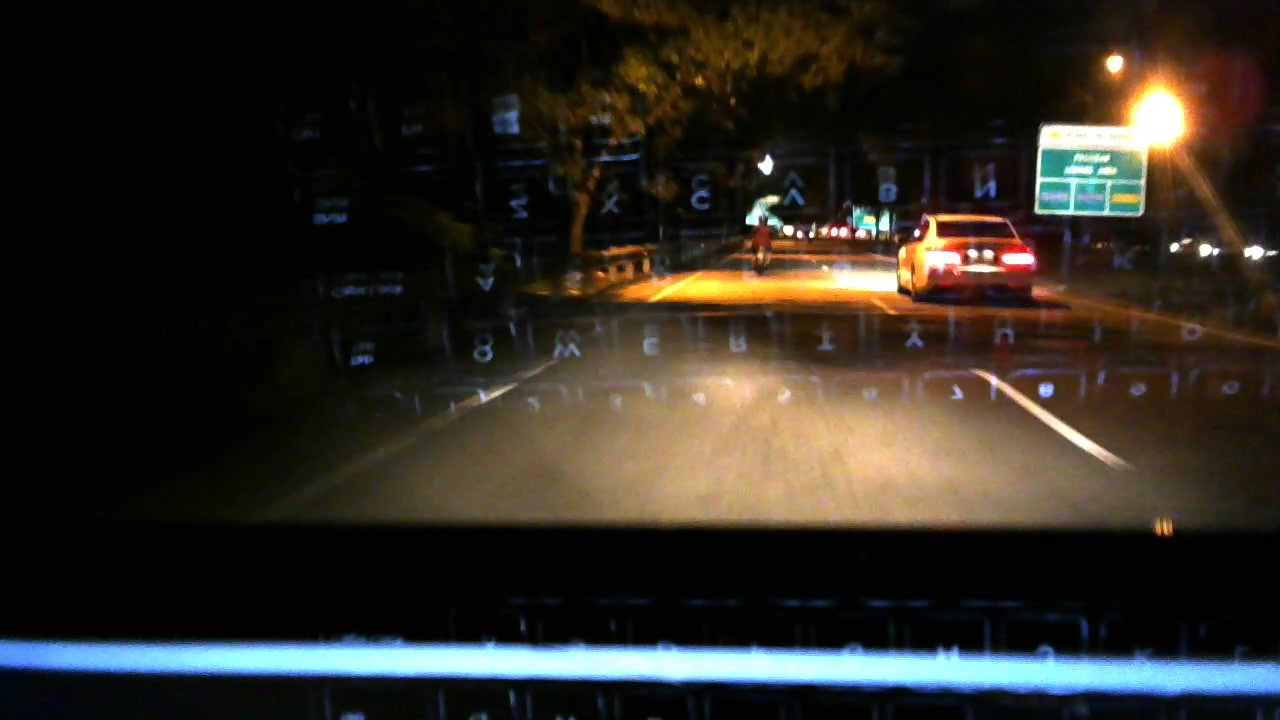Car: (893, 203, 1037, 300)
